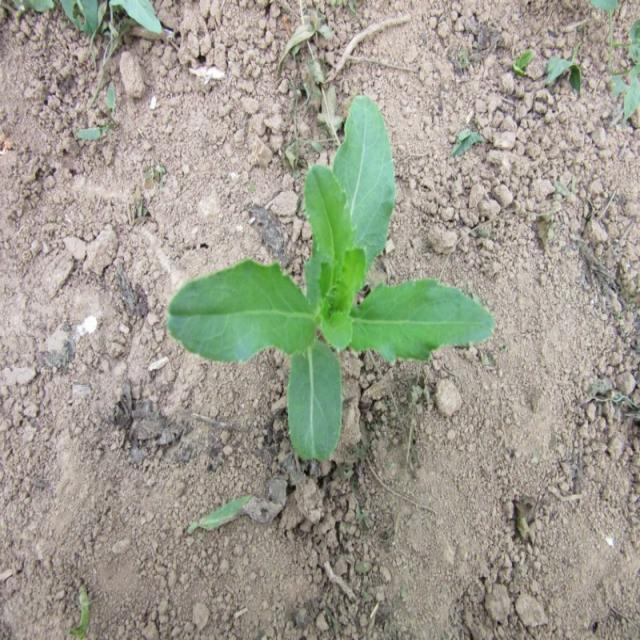cs: (169, 91, 497, 468)
